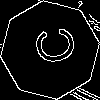C: (25, 25, 76, 67)
